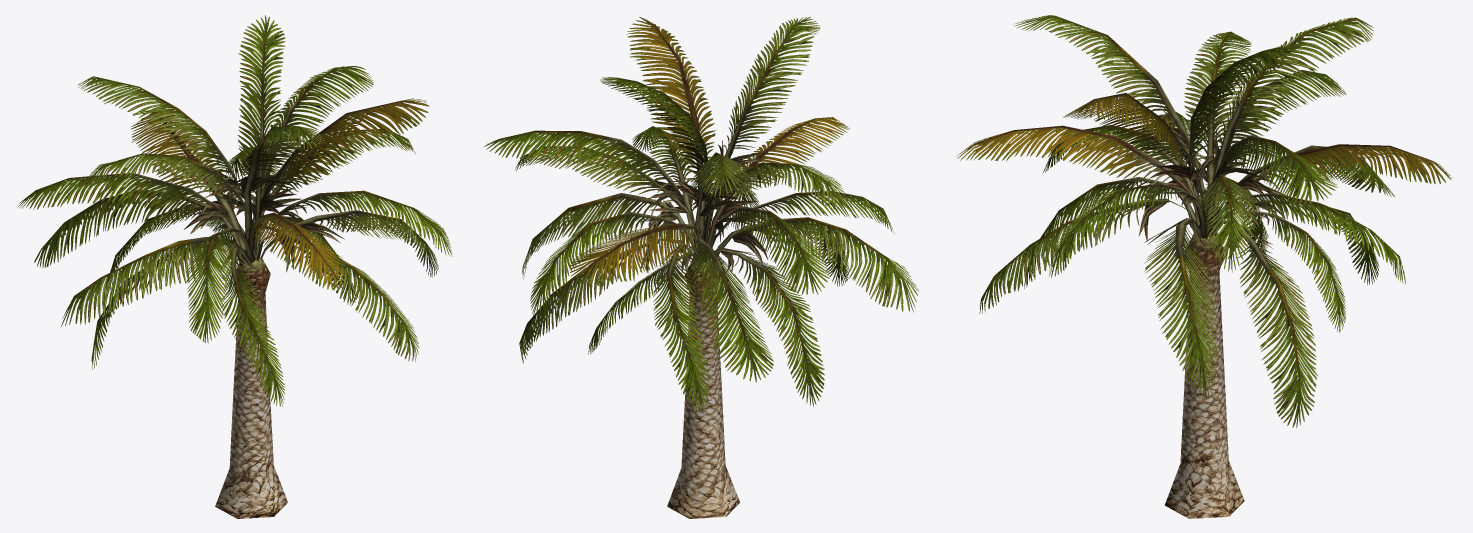
File: Tree_DatePlam_A_Lod2.fbx
The picture shows the model from 3 angles, left to right: view 1: azimuth 30°, elevation 25°; view 2: azimuth 150°, elevation 25°; view 3: azimuth 270°, elevation 25°; orthographic projection. The views are drawn at different scales.
Visible parts, largest first — view 1: Tree_DatePlam_A_Lod2; view 2: Tree_DatePlam_A_Lod2; view 3: Tree_DatePlam_A_Lod2.
Part boxes in pixels (<box>): Tree_DatePlam_A_Lod2: <box>17,15,452,518</box>; Tree_DatePlam_A_Lod2: <box>484,16,918,518</box>; Tree_DatePlam_A_Lod2: <box>957,15,1452,518</box>.
Bounding box in the file's own units: 909 × 1006 × 950.
Materials: 2 (2 with a texture image).
